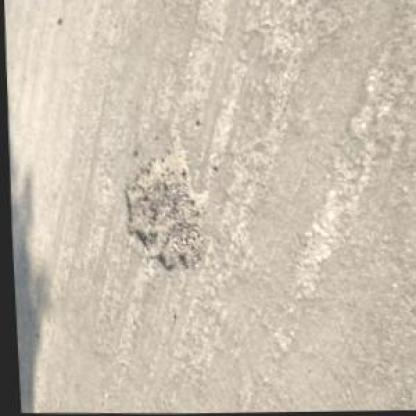pothole: (115, 132, 212, 274)
